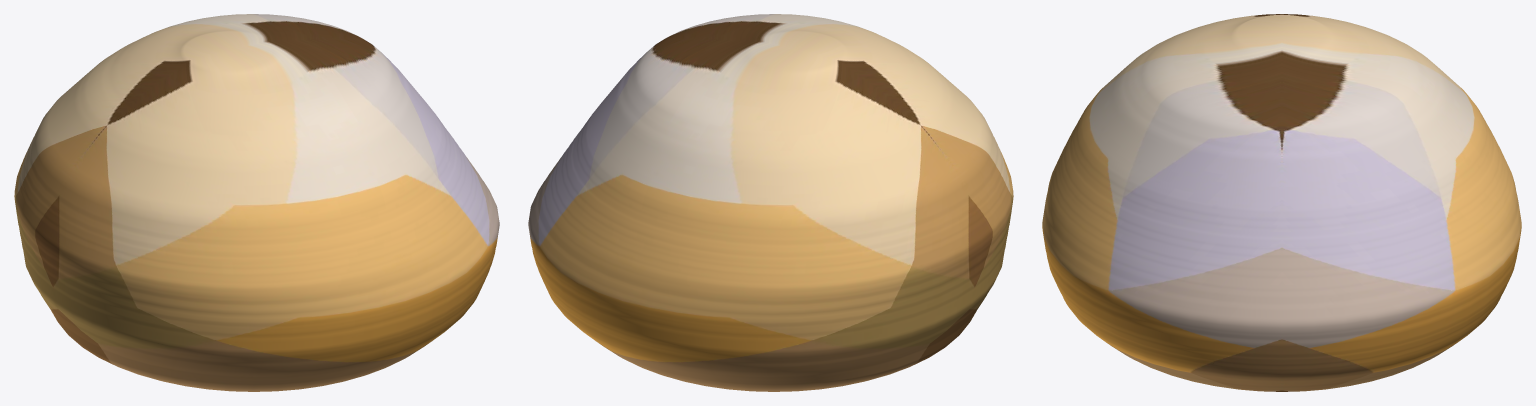
File: gold_boulder.glb
The picture shows the model from 3 angles, left to right: view 1: azimuth 30°, elevation 25°; view 2: azimuth 150°, elevation 25°; view 3: azimuth 270°, elevation 25°; orthographic projection.
Visible parts, largest first — view 1: gold_boulder; view 2: gold_boulder; view 3: gold_boulder.
Part boxes in pixels (x1,y1,x2,y2): gold_boulder: (14,14,499,391); gold_boulder: (528,14,1013,391); gold_boulder: (1042,14,1521,391).
Bounding box in the file's own units: 0.9961 × 0.6841 × 0.9851.
Materials: 1 (1 with a texture image).
